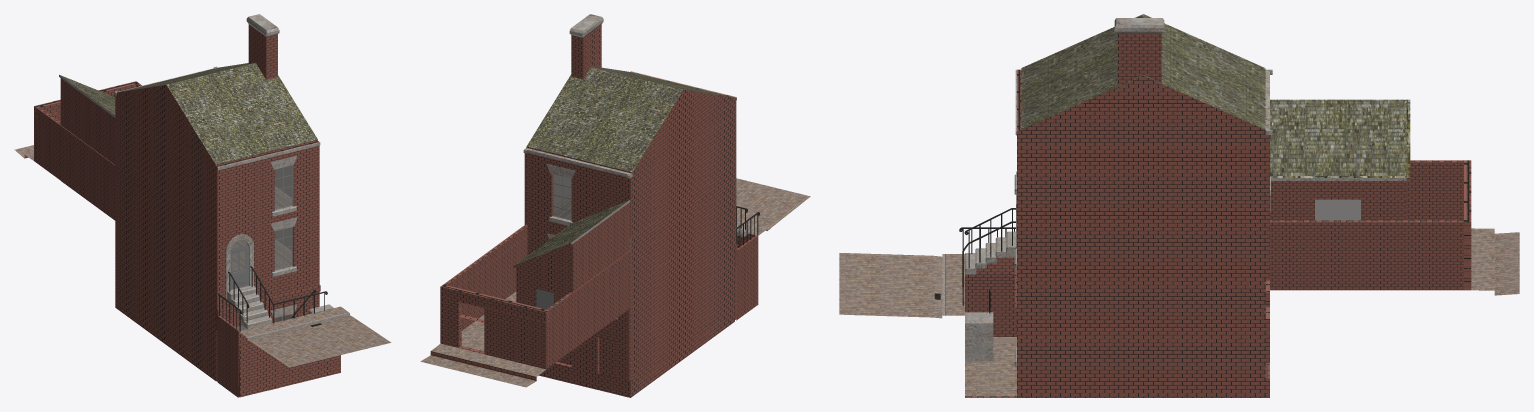
The model's file is TERRACEBRICK.fbx.
The picture shows the model from 3 angles, left to right: view 1: azimuth 30°, elevation 25°; view 2: azimuth 150°, elevation 25°; view 3: azimuth 270°, elevation 25°; orthographic projection. The views are drawn at different scales.
Parts seen in each view (by area): view 1: arch.000; view 2: arch.000; view 3: arch.000.
Part boxes in pixels (x1,y1,x2,y2): arch.000: [14, 14, 391, 397]; arch.000: [420, 14, 810, 397]; arch.000: [839, 14, 1519, 397].
Size of the model in its own units: 659 by 1853 by 3067.
Materials: 9 (5 with a texture image).
